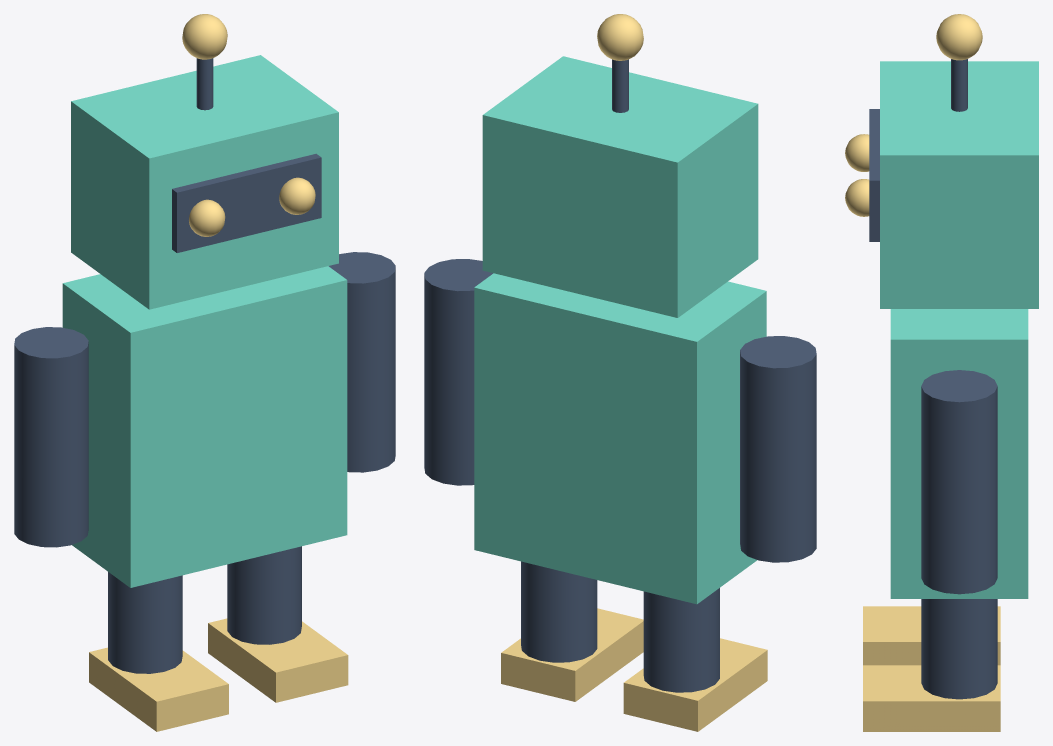
Rendered from demo-robot.glb.
The picture shows the model from 3 angles, left to right: view 1: azimuth 30°, elevation 25°; view 2: azimuth 150°, elevation 25°; view 3: azimuth 270°, elevation 25°; orthographic projection. The views are drawn at different scales.
Bounding box in the file's own units: 2.06 × 3.48 × 0.915.
